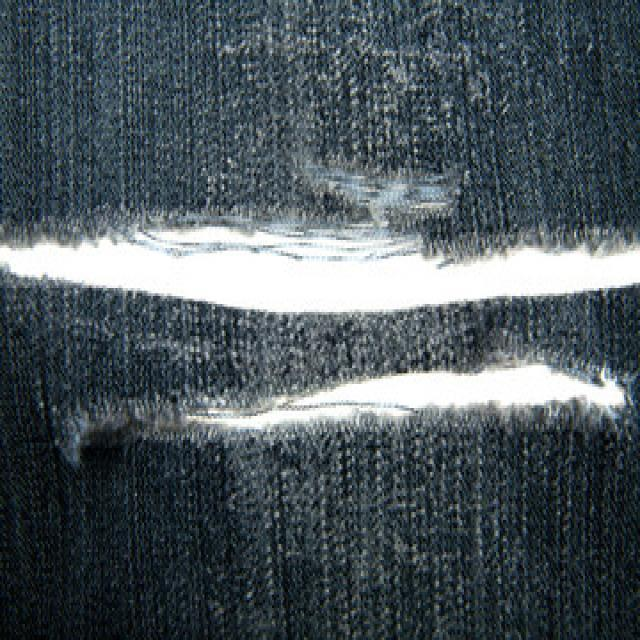Hole: (0, 225, 640, 312), (187, 364, 627, 430), (287, 155, 463, 225)
